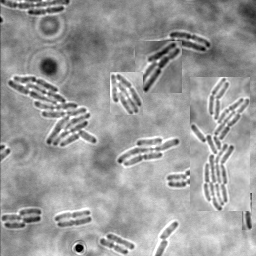Dividing: (99, 238, 128, 255), (54, 209, 90, 222), (56, 217, 92, 228), (27, 7, 64, 17), (242, 193, 252, 230), (167, 175, 189, 189)
Microcolony: (190, 77, 250, 211), (7, 76, 98, 147), (135, 41, 182, 93), (117, 137, 180, 168), (135, 32, 211, 57), (110, 72, 143, 115), (1, 208, 42, 229)
Rod: (106, 233, 135, 251), (157, 222, 178, 240), (166, 174, 187, 183)
